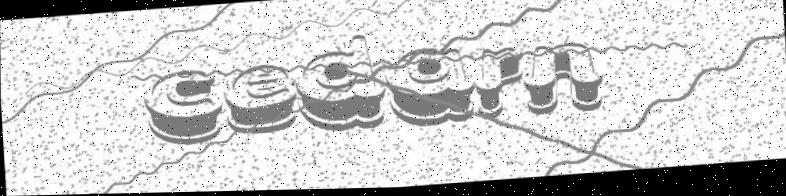a: (384, 47, 475, 129)
c: (141, 67, 224, 150)
d: (292, 34, 389, 136)
e: (221, 63, 299, 138)
n: (522, 42, 606, 119)
r: (471, 47, 527, 125)
